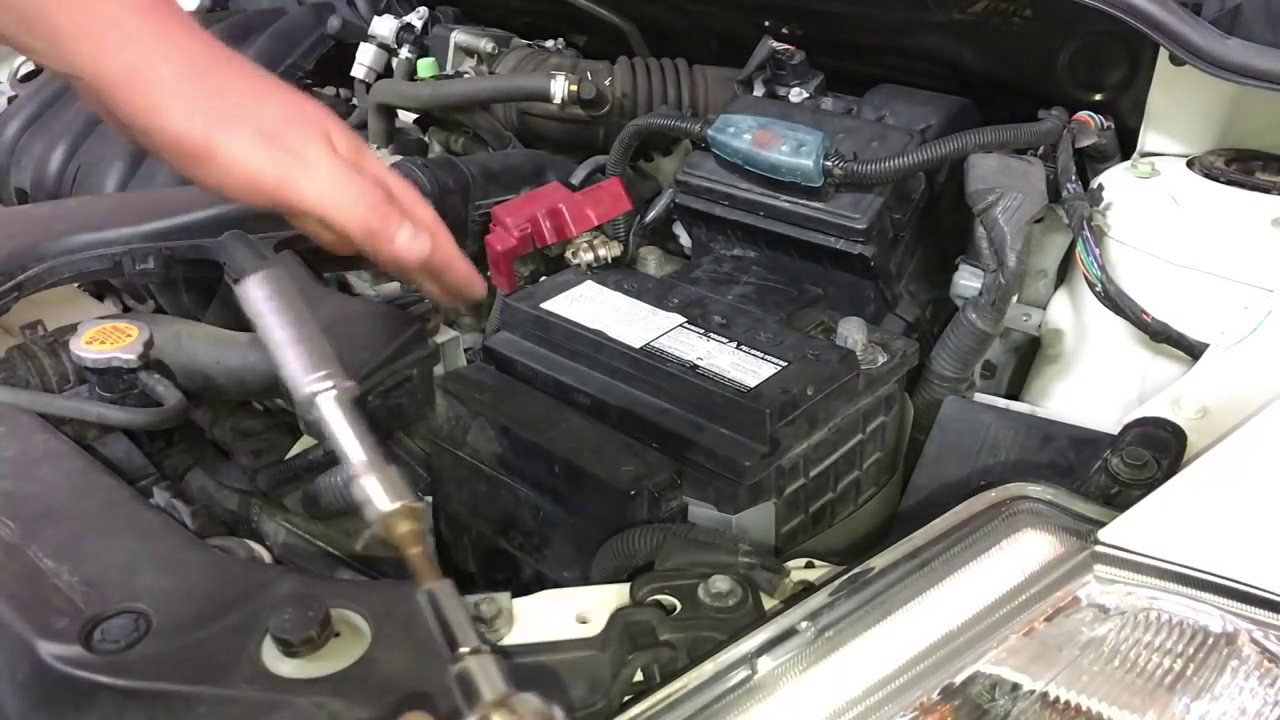battery: (508, 223, 885, 433)
neg_disconnected: (782, 298, 902, 374)
pos_disconnected: (522, 181, 698, 301)
